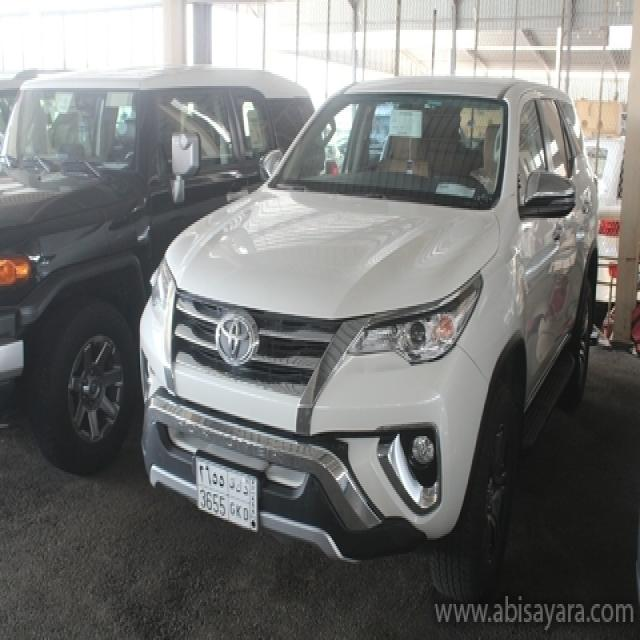license_plate: (195, 452, 260, 534)
